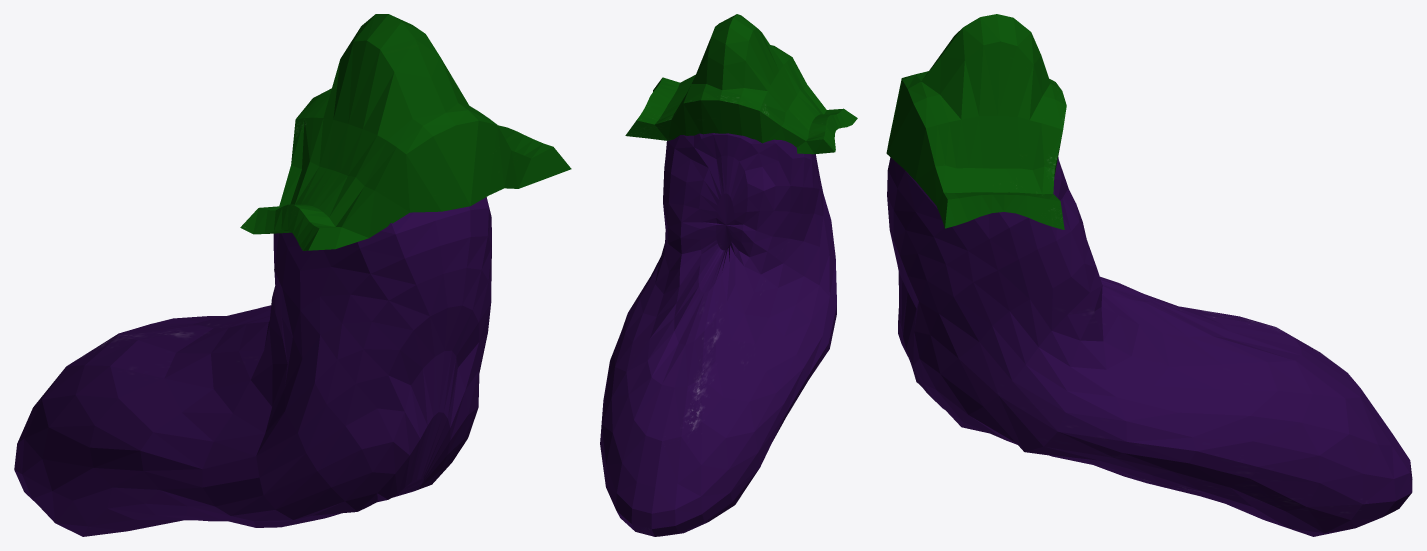
The model's file is playerN.obj.
3 renders of one model, left to right at view 1: azimuth 30°, elevation 25°; view 2: azimuth 150°, elevation 25°; view 3: azimuth 270°, elevation 25°, orthographic. The views are drawn at different scales.
Visible parts, largest first — view 1: 球; view 2: 球; view 3: 球.
Boxes of the visible parts, x1=… form: 球: x1=14, y1=14, x2=571, y2=536; 球: x1=600, y1=14, x2=857, y2=536; 球: x1=886, y1=14, x2=1412, y2=536.
Size of the model in its own units: 0.7829 by 1.35 by 1.18.
1 material, 1 textured.
